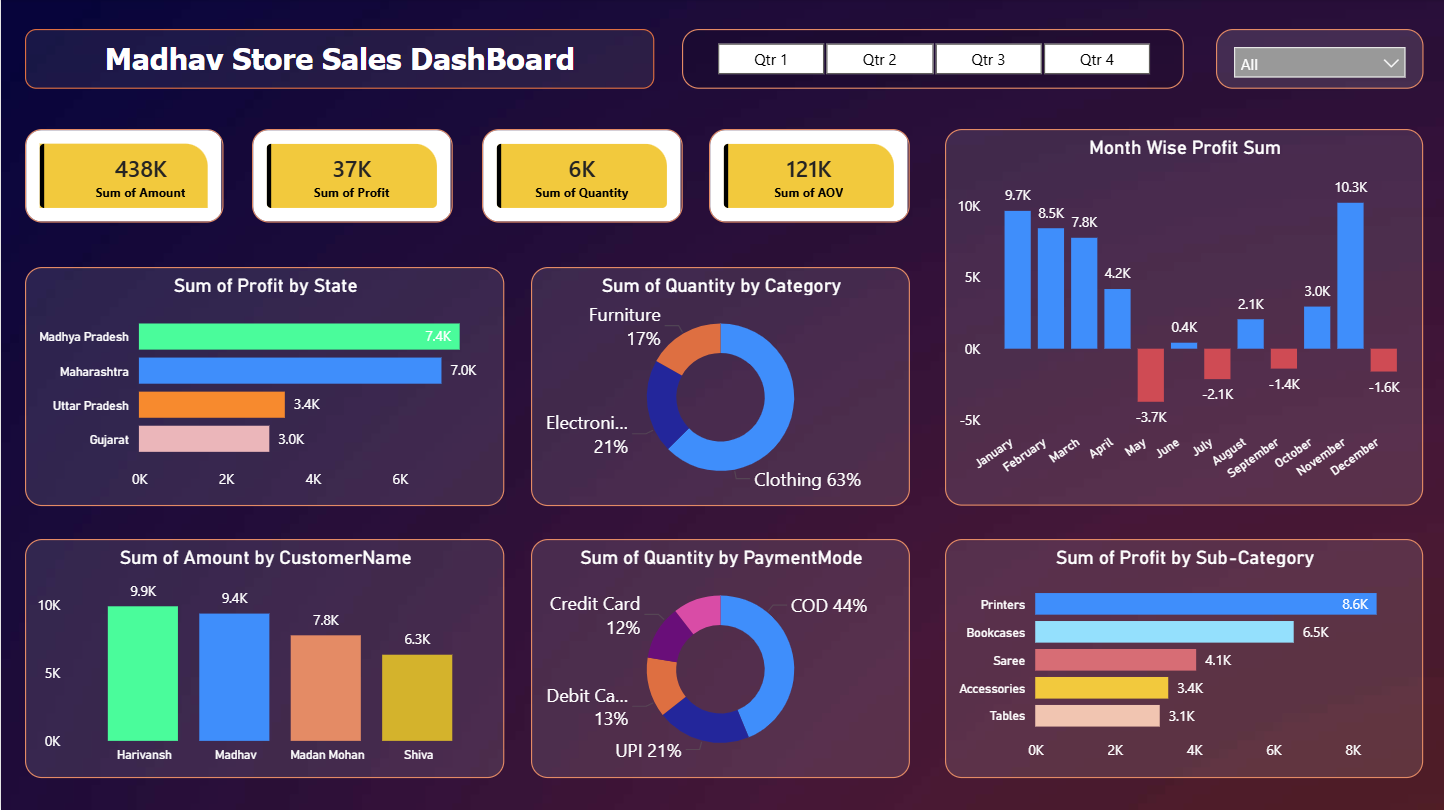

This screenshot's page, from the dashboard's own definition file:
{"tool":"powerbi","page":{"name":"Page 1","canvas":[1280,720],"ordinal":0},"visuals":[{"type":"textbox","box":[21,27,558,53],"z":0},{"type":"columnChart","title":"Month Wise Profit Sum","fields":{"Y":["Sum(Details.Profit)"],"Category":["Orders.Order Date.Variation.Date Hierarchy.Month"]},"box":[837,115.3,423.8,334.3],"z":1000},{"type":"barChart","fields":{"Category":["Details.Sub-Category"],"Y":["Sum(Details.Profit)"]},"box":[837,478.8,423.8,211.9],"z":2000},{"type":"donutChart","fields":{"Category":["Details.Category"],"Y":["Sum(Details.Quantity)"]},"box":[470,238,336,212],"z":3000},{"type":"donutChart","fields":{"Category":["Details.PaymentMode","Details.Category"],"Y":["Sum(Details.Quantity)"]},"box":[470,479,336,212],"z":4000},{"type":"cardVisual","fields":{"Data":["Sum(Details.Amount)"]},"box":[21.1,115.6,175.6,83.3],"z":5000},{"type":"barChart","fields":{"Category":["Orders.State"],"Y":["Sum(Details.Profit)"]},"box":[21,238,425,212],"z":6000},{"type":"cardVisual","fields":{"Data":["Sum(Details.Profit)"]},"box":[222.2,115.6,177.8,83.3],"z":7000},{"type":"cardVisual","fields":{"Data":["Sum(Details.Quantity)"]},"box":[426.1,115.6,177.8,83.3],"z":8000},{"type":"cardVisual","fields":{"Data":["Sum(Details.AOV)"]},"box":[627.8,115.6,177.8,83.3],"z":9000},{"type":"columnChart","fields":{"Category":["Orders.CustomerName"],"Y":["Sum(Details.Amount)"]},"box":[21,479,425,212],"z":10000},{"type":"slicer","fields":{"Values":["Orders.Order Date.Variation.Date Hierarchy.Quarter"]},"box":[604,27,445,53],"z":11000},{"type":"slicer","fields":{"Values":["Orders.State"]},"box":[1077,27,184,53],"z":12000}]}

Visuals, with their boxes in screenshot pixels (x1, y1, x2, y2), scaled from the page's 1280x720 canvas onto the 1444x810 screenshot:
textbox: {"left": 24, "top": 30, "right": 653, "bottom": 90}
"Month Wise Profit Sum" columnChart: {"left": 944, "top": 130, "right": 1422, "bottom": 506}
barChart - Details.Sub-Category x Sum(Details.Profit): {"left": 944, "top": 539, "right": 1422, "bottom": 777}
donutChart - Details.Category x Sum(Details.Quantity): {"left": 530, "top": 268, "right": 909, "bottom": 506}
donutChart - Details.PaymentMode x Details.Category: {"left": 530, "top": 539, "right": 909, "bottom": 777}
cardVisual - Sum(Details.Amount): {"left": 24, "top": 130, "right": 222, "bottom": 224}
barChart - Orders.State x Sum(Details.Profit): {"left": 24, "top": 268, "right": 503, "bottom": 506}
cardVisual - Sum(Details.Profit): {"left": 251, "top": 130, "right": 451, "bottom": 224}
cardVisual - Sum(Details.Quantity): {"left": 481, "top": 130, "right": 681, "bottom": 224}
cardVisual - Sum(Details.AOV): {"left": 708, "top": 130, "right": 909, "bottom": 224}
columnChart - Orders.CustomerName x Sum(Details.Amount): {"left": 24, "top": 539, "right": 503, "bottom": 777}
slicer - Orders.Order Date.Variation.Date Hierarchy.Quarter: {"left": 681, "top": 30, "right": 1183, "bottom": 90}
slicer - Orders.State: {"left": 1215, "top": 30, "right": 1423, "bottom": 90}
